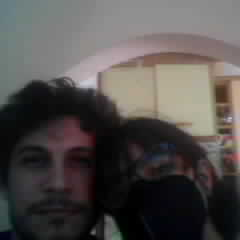with_mask: (114, 145, 208, 239)
without_mask: (12, 116, 99, 238)
